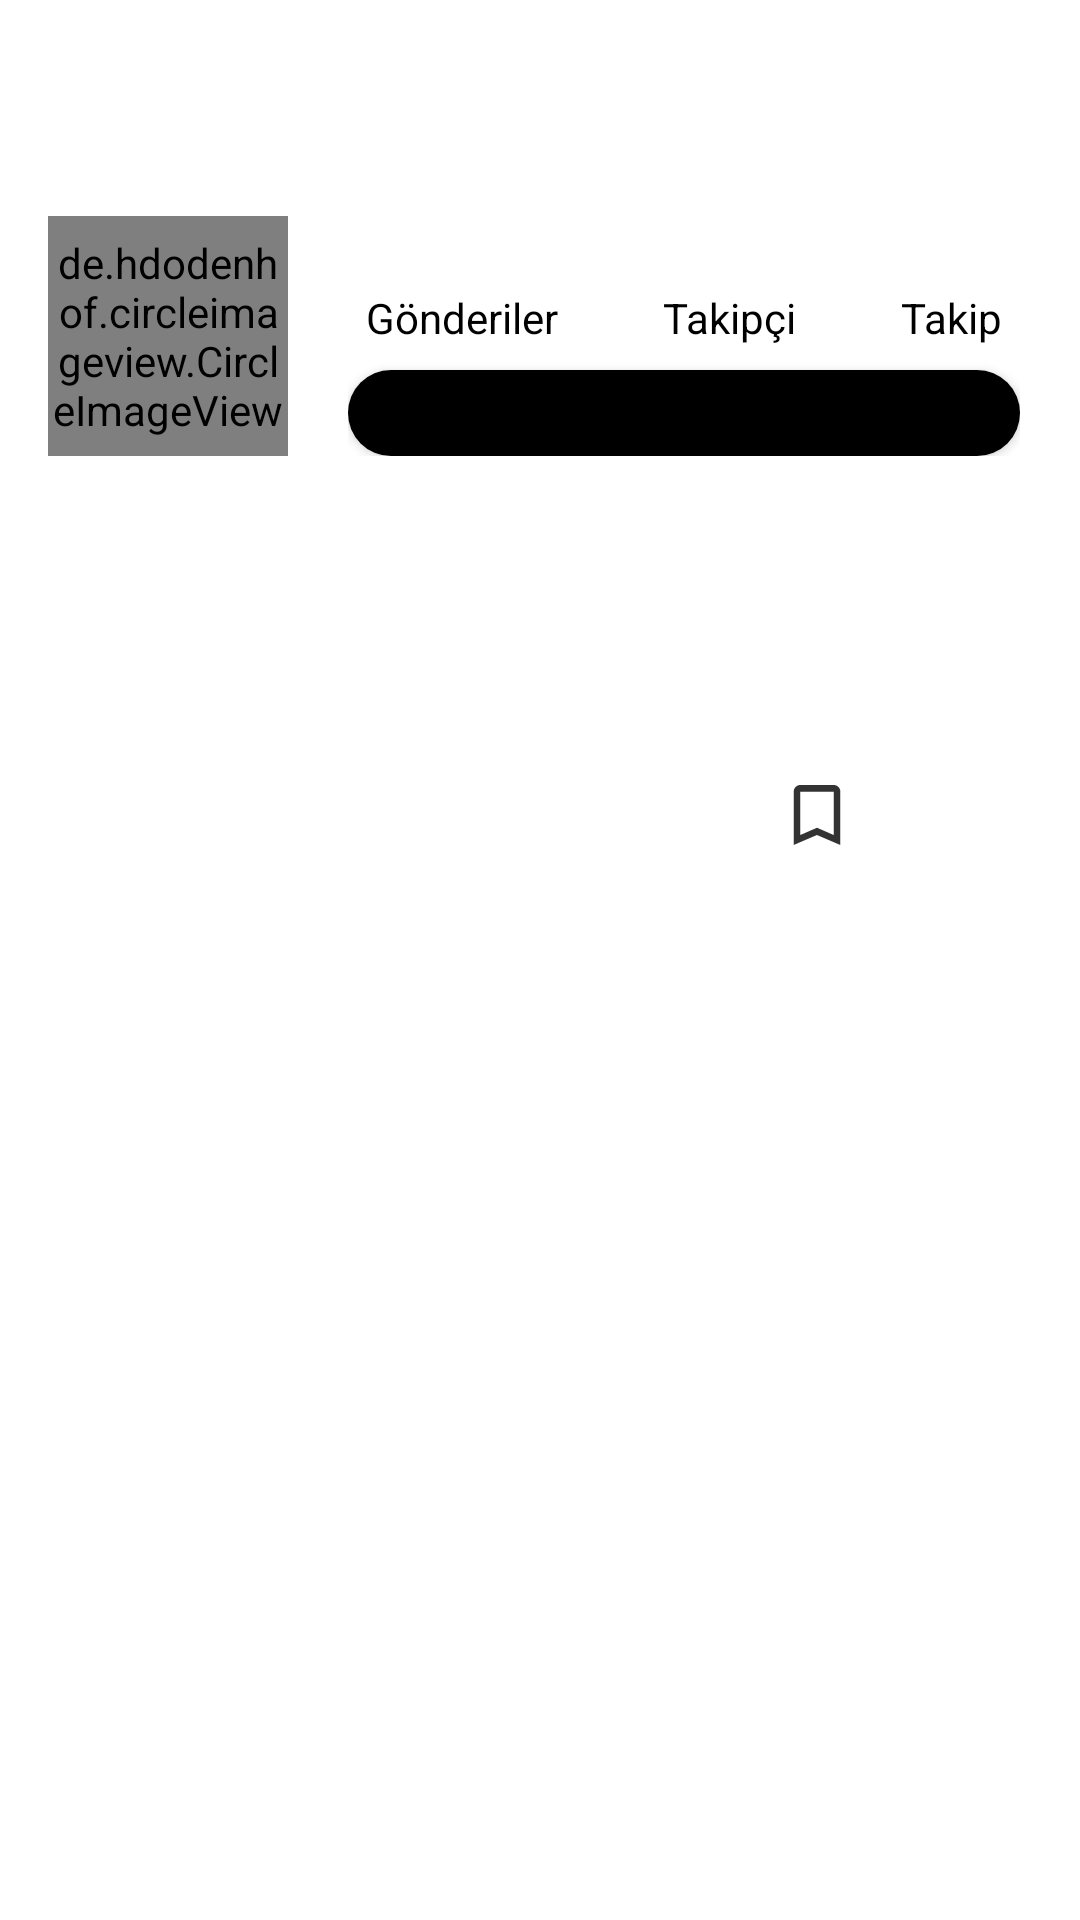

Locate icon controls on the screen. Image size 1080*1920, boxes as (x1, y1, x2, y2).
bookmark: (793, 785, 841, 845)
